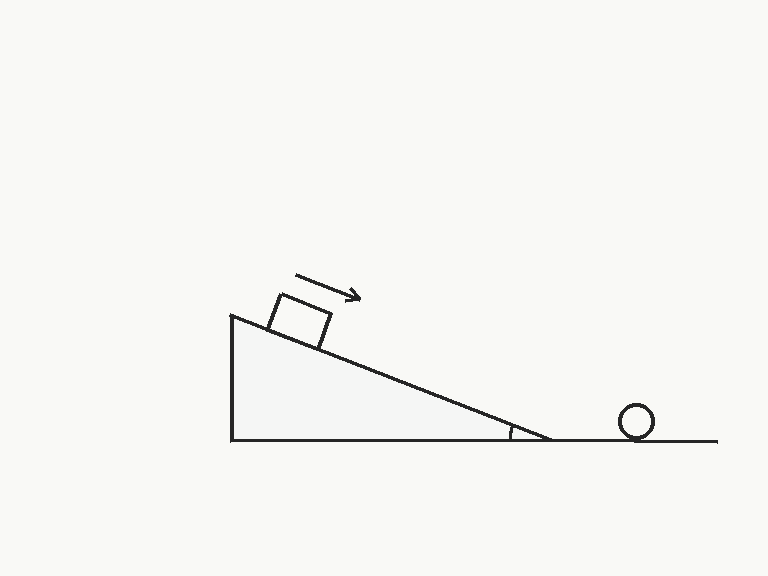ball: (616, 401, 656, 441)
block: (265, 292, 333, 351)
ramp: (229, 314, 552, 441)
